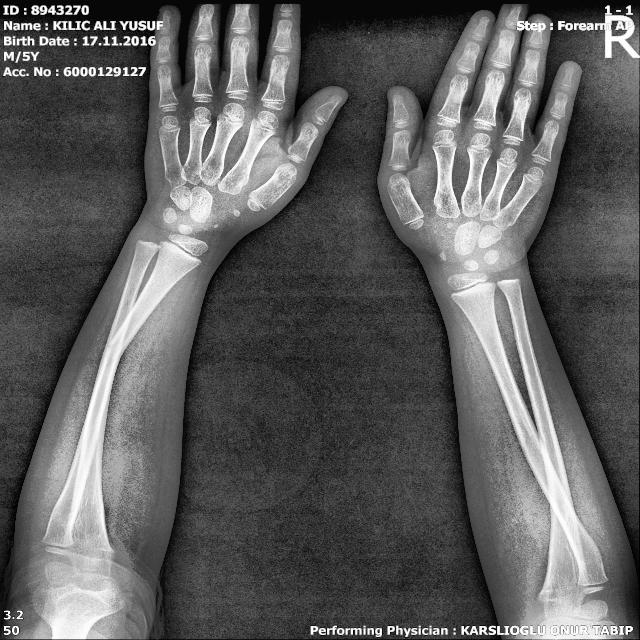Fracture: (101, 333, 132, 357)
